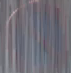No waiting: (7, 4, 65, 67)
